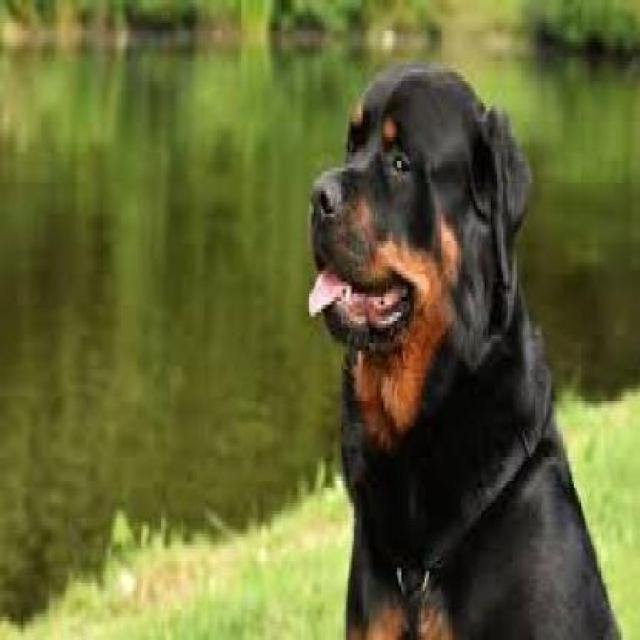animals: (322, 52, 636, 640)
